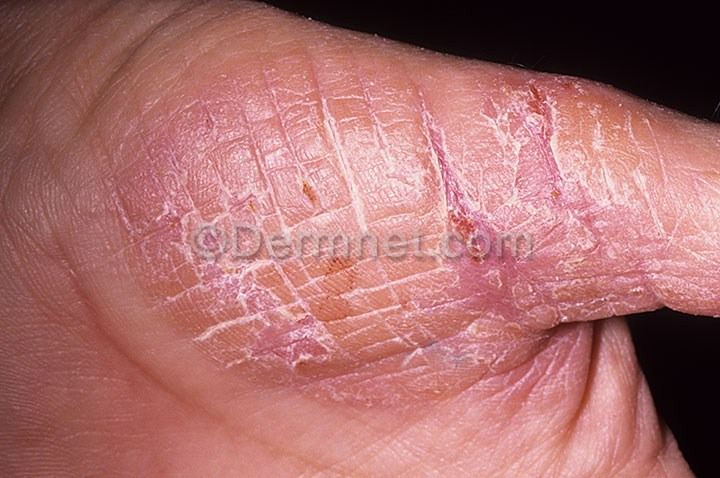Eczema: (92, 15, 705, 423)
